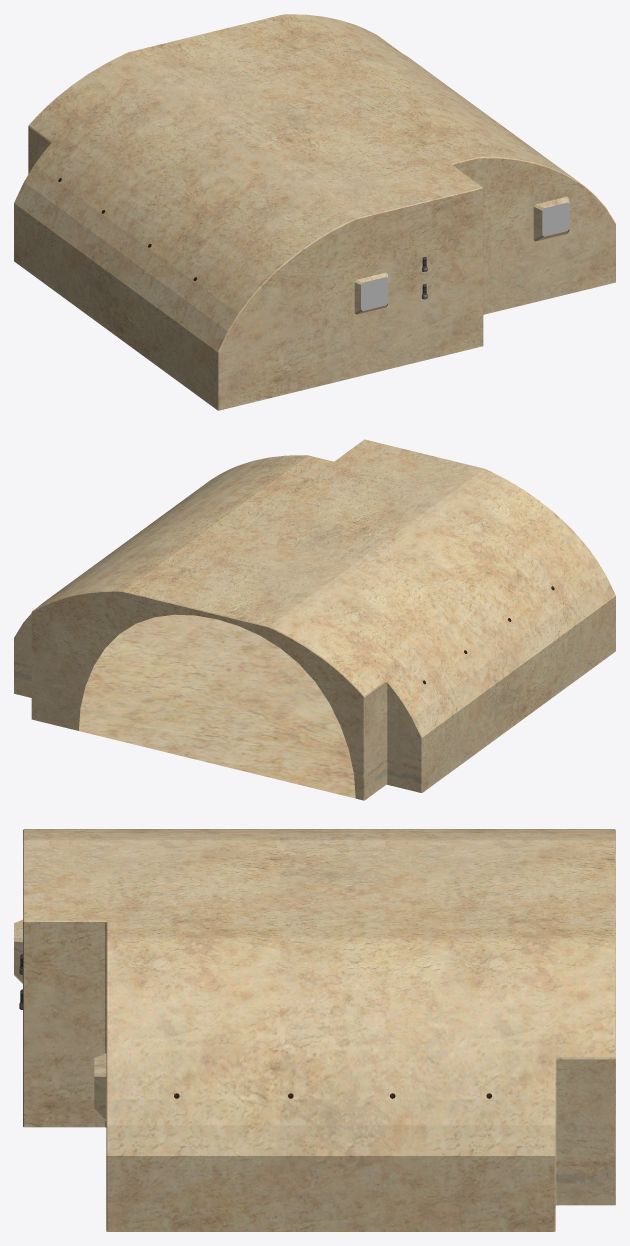
The model's file is thm_tato_cantina_r5_alcove2_mesh_r5.fbx.
3 renders of one model, top to bottom at view 1: azimuth 30°, elevation 25°; view 2: azimuth 150°, elevation 25°; view 3: azimuth 270°, elevation 25°, orthographic. The views are drawn at different scales.
Parts seen in each view (by area): view 1: mesh_node; view 2: mesh_node; view 3: mesh_node.
Part boxes in pixels (x1,y1,x2,y2): mesh_node: (14, 14, 615, 410); mesh_node: (14, 439, 615, 800); mesh_node: (14, 829, 615, 1231).
Bounding box in the file's own units: 11.79 × 4.15 × 10.98.
